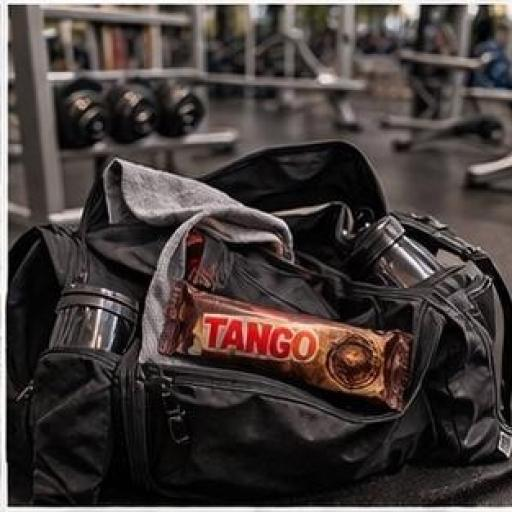tango: (123, 231, 465, 450)
